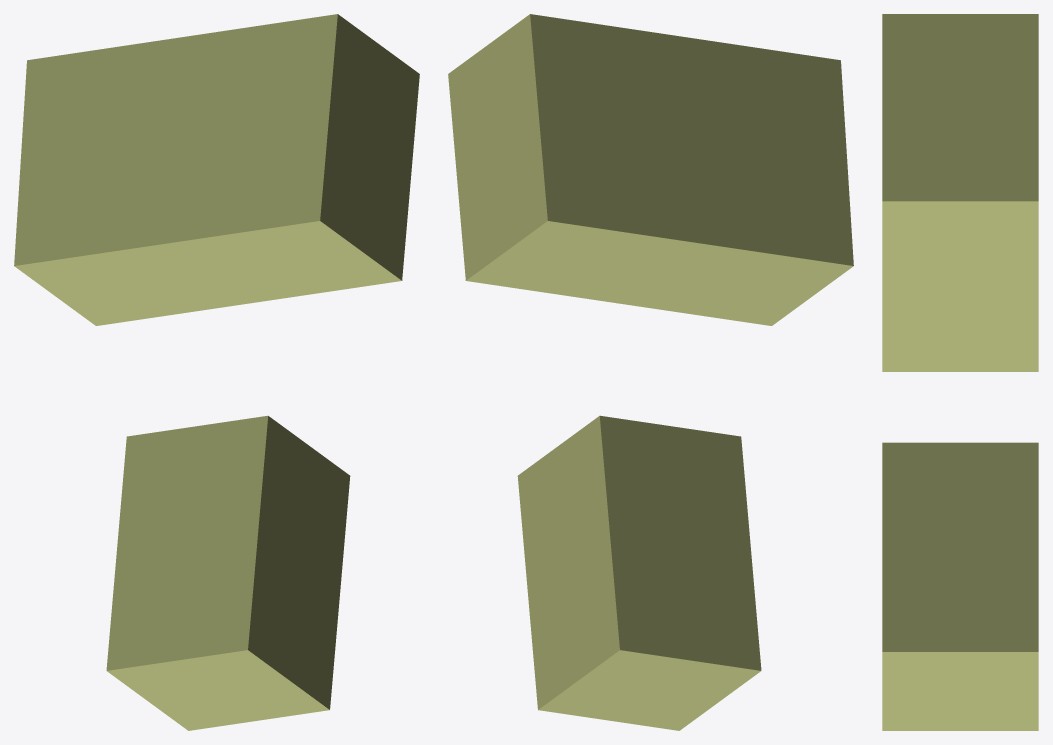
3 views of the same model, side by side, from view 1: azimuth 30°, elevation 25°; view 2: azimuth 150°, elevation 25°; view 3: azimuth 270°, elevation 25° (orthographic). The views are drawn at different scales.
Parts seen in each view (by area): view 1: 0_1_3_2_2_2_2_3_3_3; view 2: 0_1_3_2_2_2_2_3_3_3; view 3: 0_1_3_2_2_2_2_3_3_3.
Part boxes in pixels (x1,y1,x2,y2): 0_1_3_2_2_2_2_3_3_3: [14, 14, 419, 730]; 0_1_3_2_2_2_2_3_3_3: [448, 14, 853, 730]; 0_1_3_2_2_2_2_3_3_3: [882, 14, 1038, 730].
Size of the model in its own units: 13.67 by 25.98 by 6.
